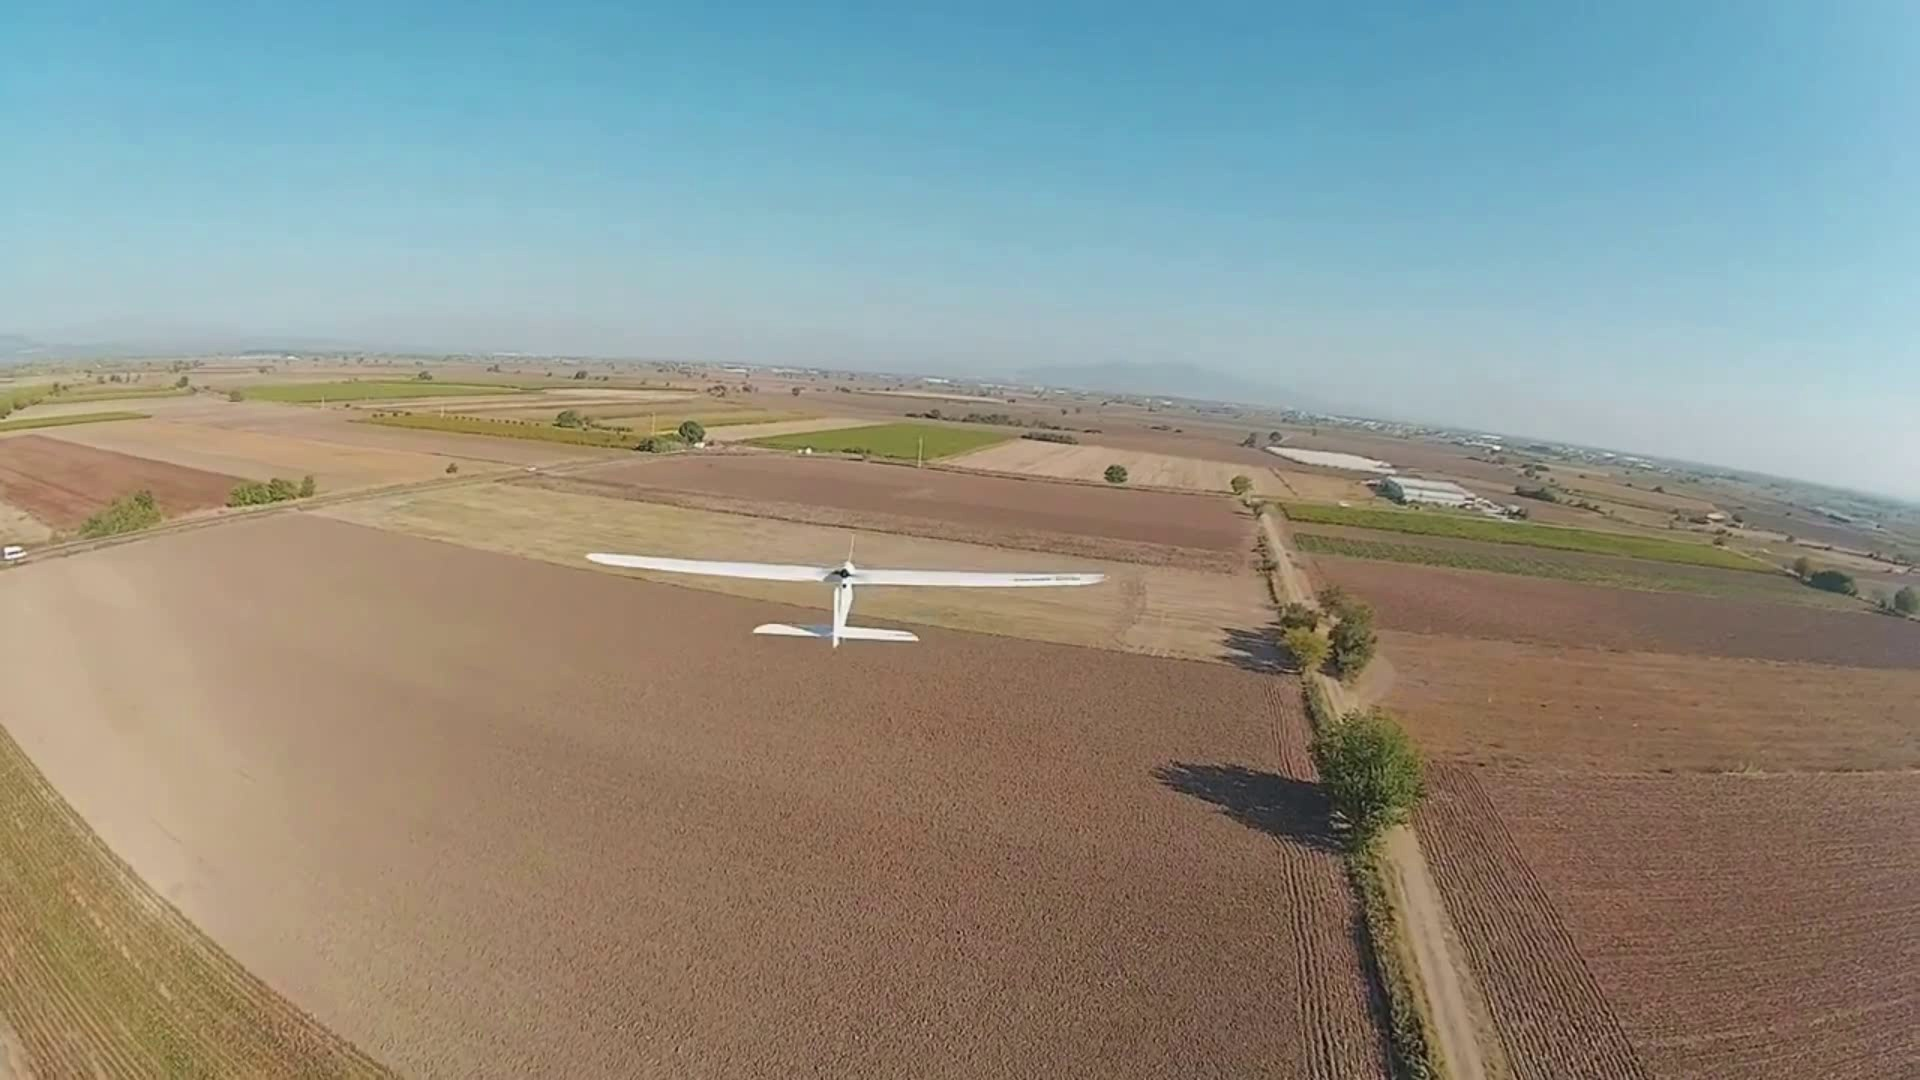airplane: (583, 546, 1108, 642)
